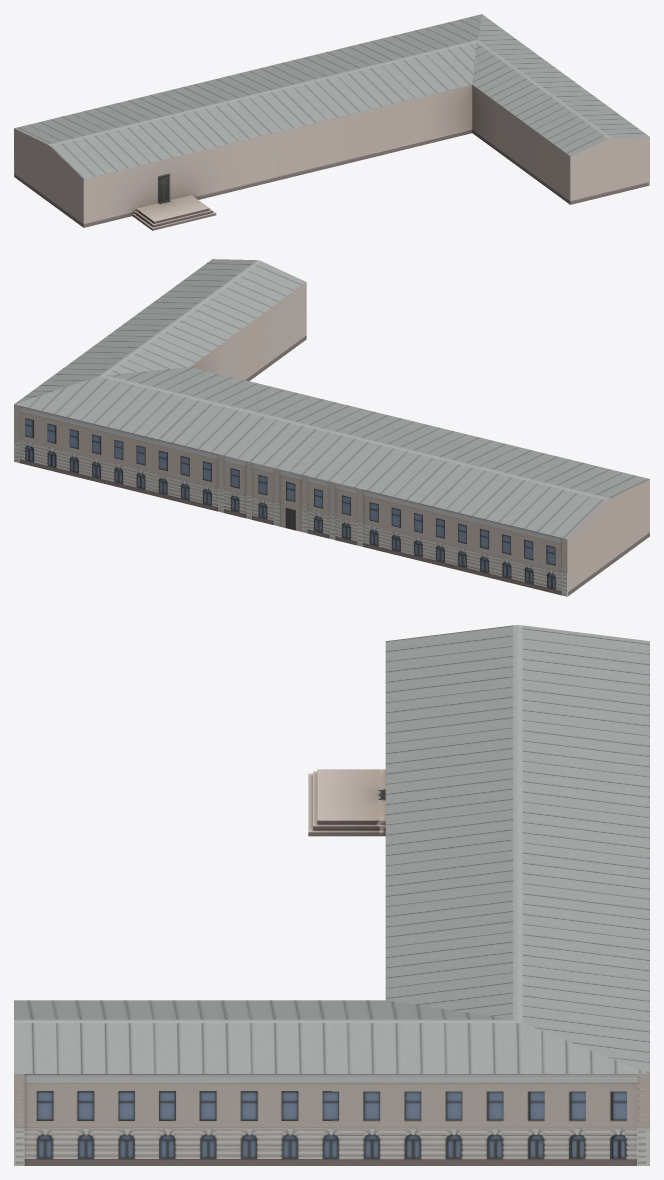
Rendered from Kat-Chol-Gimn_kcg_h+kcg_l.gltf.
The picture shows the model from 3 angles, top to bottom: view 1: azimuth 30°, elevation 25°; view 2: azimuth 150°, elevation 25°; view 3: azimuth 270°, elevation 25°; orthographic projection. The views are drawn at different scales.
Parts seen in each view (by area): view 1: 9fb74c32-0507-4b68-86b5-d63ea2b307c3; view 2: 9fb74c32-0507-4b68-86b5-d63ea2b307c3; view 3: 9fb74c32-0507-4b68-86b5-d63ea2b307c3.
Boxes of the visible parts, left/top/right/bottom form: 9fb74c32-0507-4b68-86b5-d63ea2b307c3: left=14, top=14, right=649, bottom=230; 9fb74c32-0507-4b68-86b5-d63ea2b307c3: left=14, top=259, right=649, bottom=596; 9fb74c32-0507-4b68-86b5-d63ea2b307c3: left=14, top=625, right=649, bottom=1165.
Size of the model in its own units: 46.16 by 5.38 by 28.67.
Materials: 1 (1 with a texture image).
